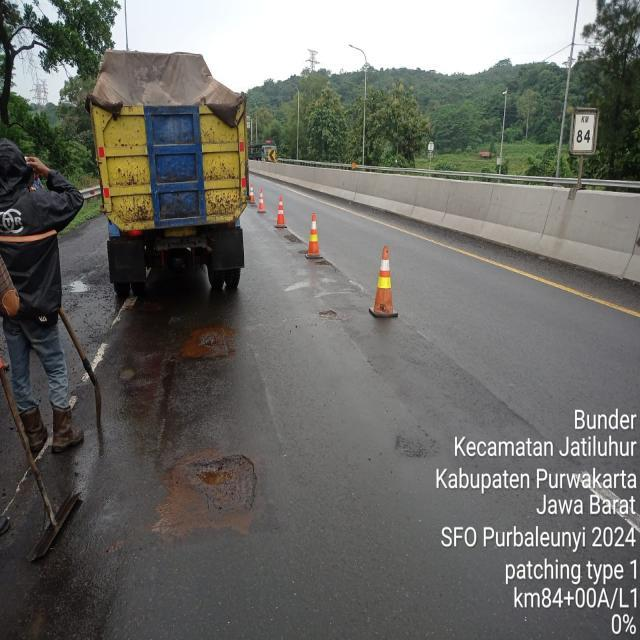Buraco: (181, 453, 260, 515), (158, 312, 240, 365), (114, 363, 140, 385), (65, 278, 93, 294), (137, 299, 163, 314), (282, 233, 304, 244), (317, 309, 338, 320), (313, 258, 334, 267), (296, 248, 308, 256)
